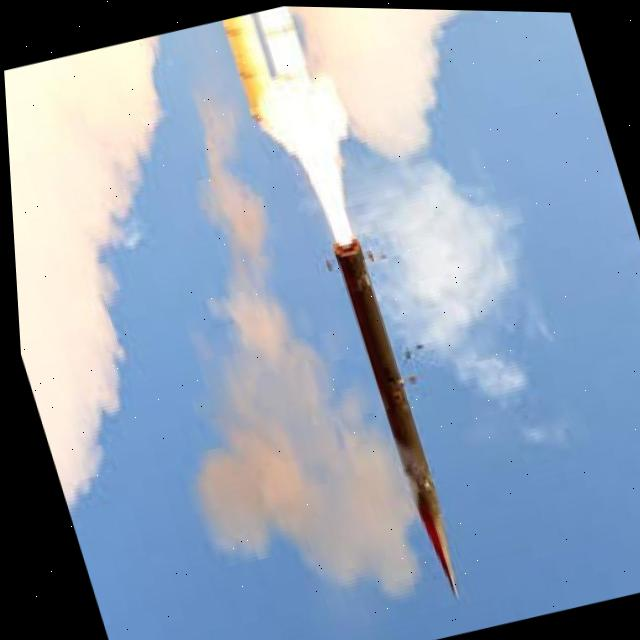missile: (327, 235, 465, 604)
